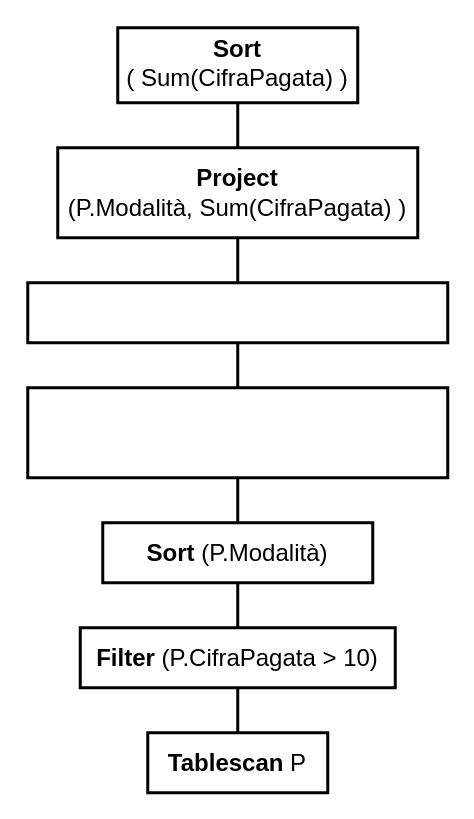
Image size: 474x819. Some labels were removed from this diagram. Here are the shapes that lost their labels. From the top down, the centre of each, then its label:
At (237,312): "Filter (Sum(CifraPagata) < 10000)".
At (237,432): "GroupBy ( {P.Modalità}, { Sum(CifraPagata) } )".
